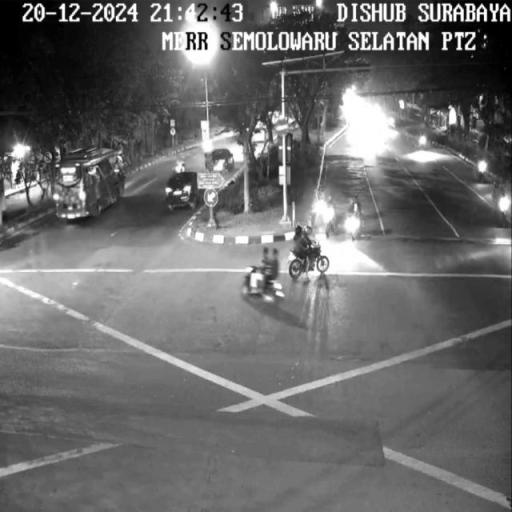bus: (51, 132, 129, 235)
car: (158, 168, 200, 218), (198, 138, 238, 172)
motorcycle: (234, 259, 288, 310), (341, 198, 378, 243), (288, 247, 335, 278), (320, 195, 342, 242), (312, 190, 327, 230)
